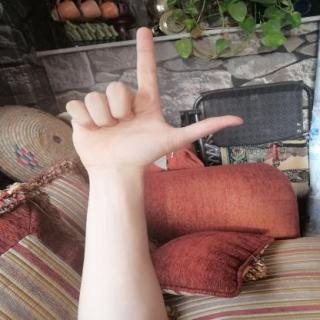LAAM: (56, 17, 252, 176)
